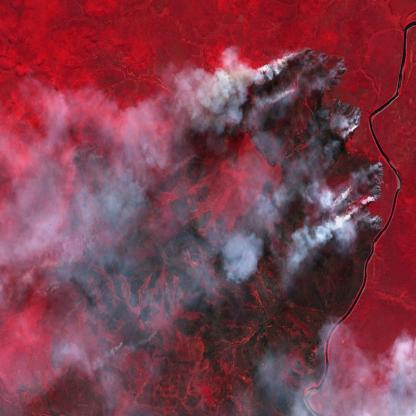fire: (43, 42, 389, 364)
